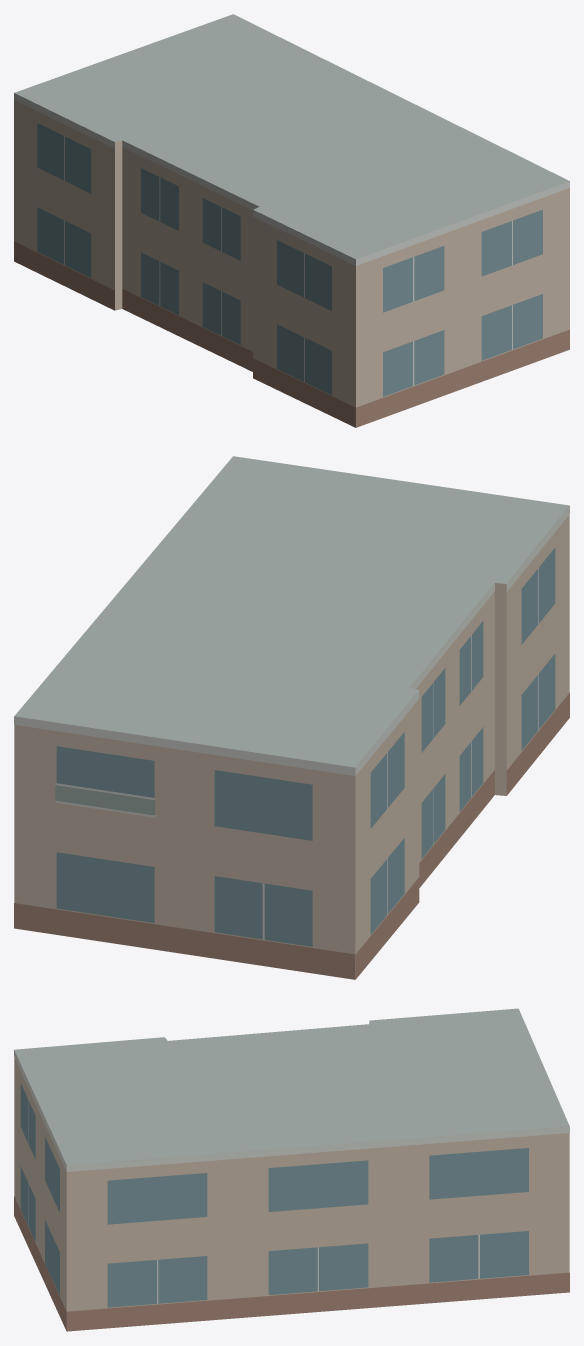
The model's file is survey-upis-32659477.glb.
3 renders of one model, top to bottom at view 1: azimuth 30°, elevation 25°; view 2: azimuth 150°, elevation 25°; view 3: azimuth 270°, elevation 25°, orthographic. The views are drawn at different scales.
Parts seen in each view (by area): view 1: survey-upis-32659477.tmp; view 2: survey-upis-32659477.tmp; view 3: survey-upis-32659477.tmp.
Part boxes in pixels (left/top/right/bottom): survey-upis-32659477.tmp: left=14, top=14, right=569, bottom=427; survey-upis-32659477.tmp: left=14, top=456, right=569, bottom=979; survey-upis-32659477.tmp: left=14, top=1008, right=569, bottom=1331.
Bounding box in the file's own units: 12.38 × 6.1 × 18.51.
